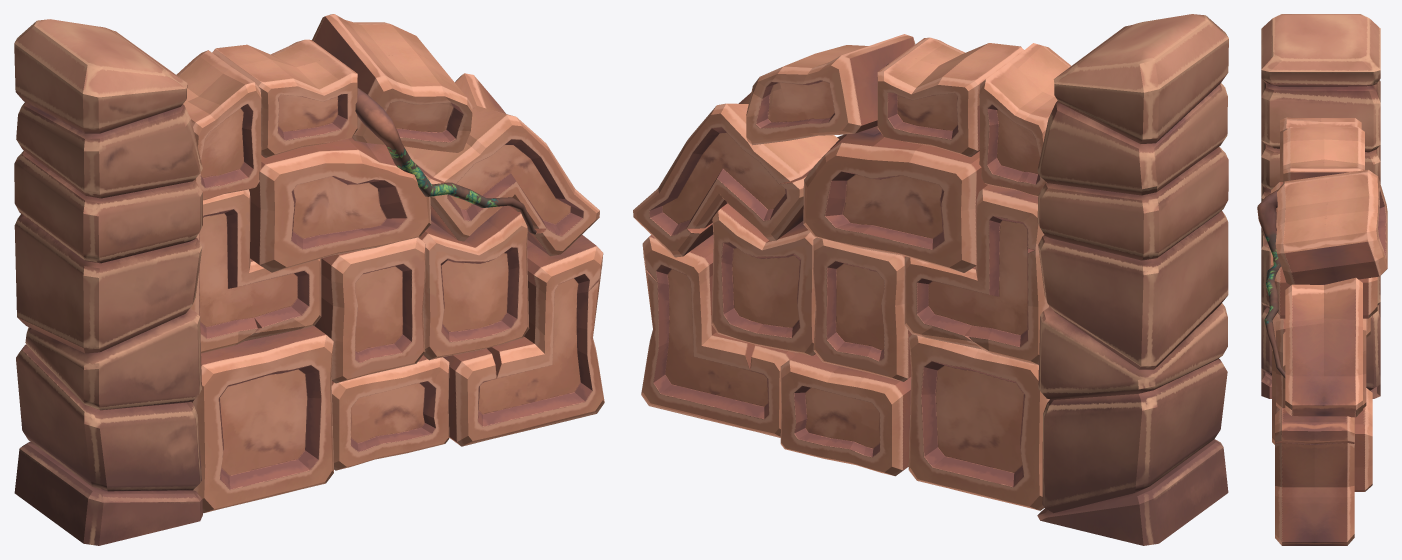
File: BrokenWall.fbx
The picture shows the model from 3 angles, left to right: view 1: azimuth 30°, elevation 25°; view 2: azimuth 150°, elevation 25°; view 3: azimuth 270°, elevation 25°; orthographic projection. The views are drawn at different scales.
Parts seen in each view (by area): view 1: BrokenWall; view 2: BrokenWall; view 3: BrokenWall.
Boxes of the visible parts, bbox=[...] form: BrokenWall: bbox=[14, 14, 604, 545]; BrokenWall: bbox=[633, 14, 1228, 545]; BrokenWall: bbox=[1257, 14, 1387, 545].
Size of the model in its own units: 2.38 by 2.06 by 0.6873.
